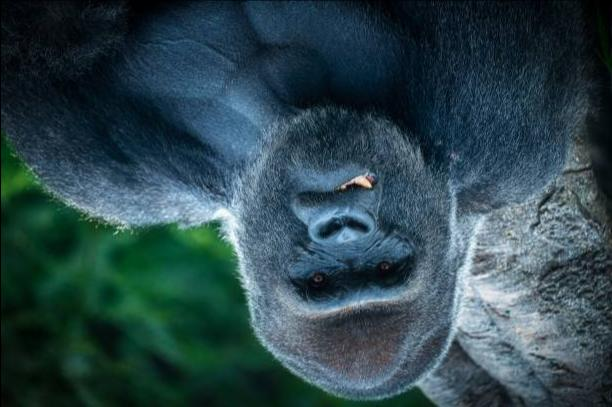gorille_Autres: (0, 0, 570, 407)
